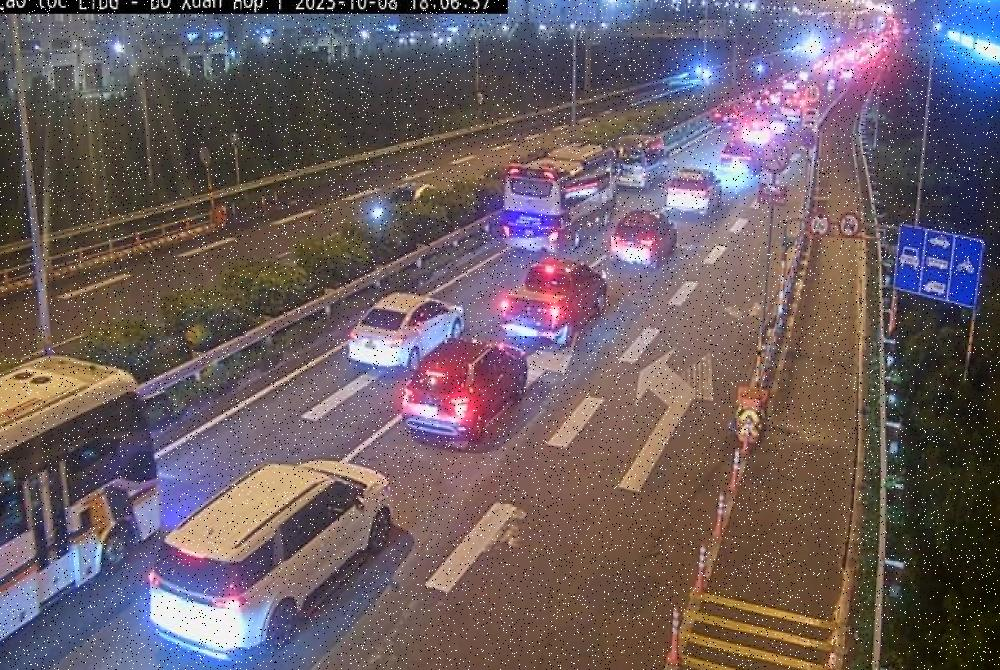bus: (0, 356, 165, 656), (505, 145, 615, 252)
car: (149, 457, 396, 656), (403, 337, 530, 450), (499, 258, 614, 344), (350, 291, 470, 371)
